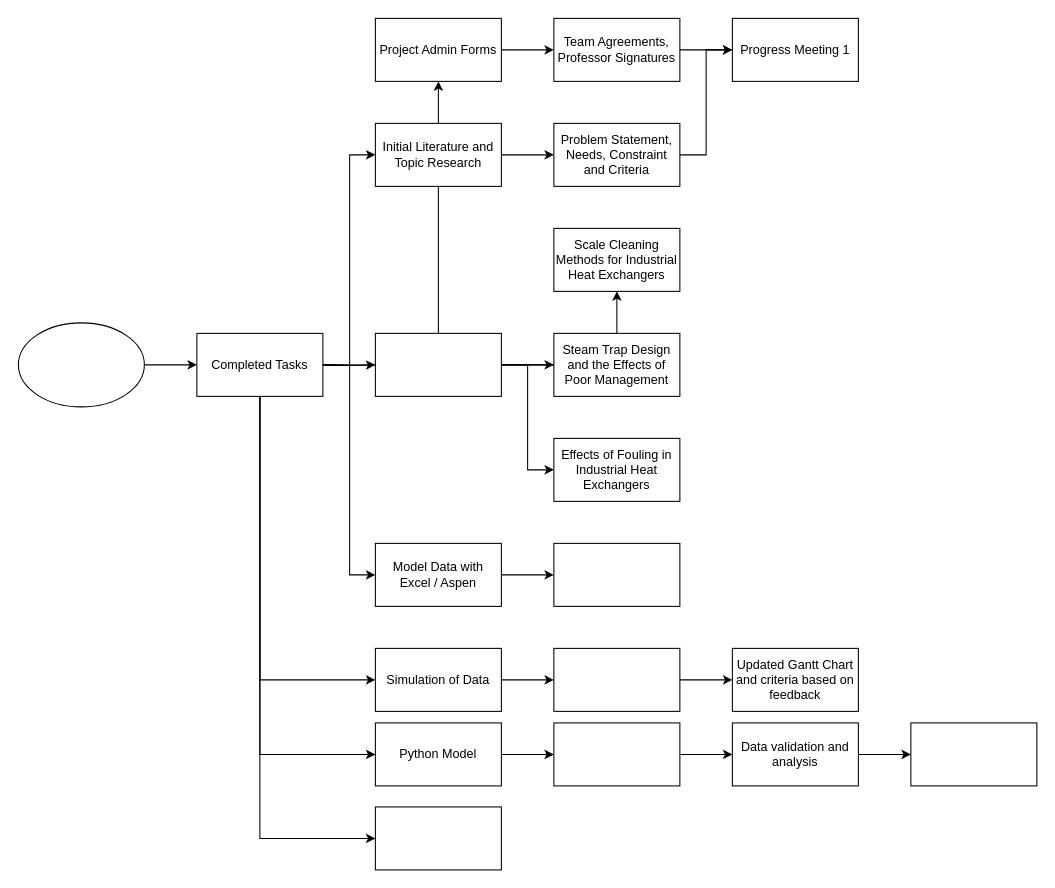
This 1055x888 diagram has some shape labels left out. Here are the shapes that lost their labels. From the top down, the box of each, then its label:
(17, 322, 144, 407): Optimizing Cleaning Schedule & Steam Trap Design
(374, 332, 501, 396): Literature review
(553, 542, 680, 606): Create simulation and test different operating configurations
(553, 647, 680, 711): Progress Meeting 2 Deliverables
(553, 722, 680, 786): Facebook Prophet
(910, 722, 1037, 786): Finalizing optimization schedule
(374, 806, 501, 870): Steam trap design and sizing
